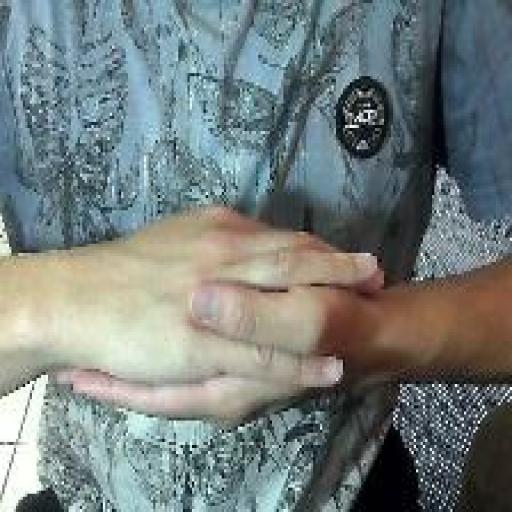Saru -monkey-: (52, 198, 388, 436)
